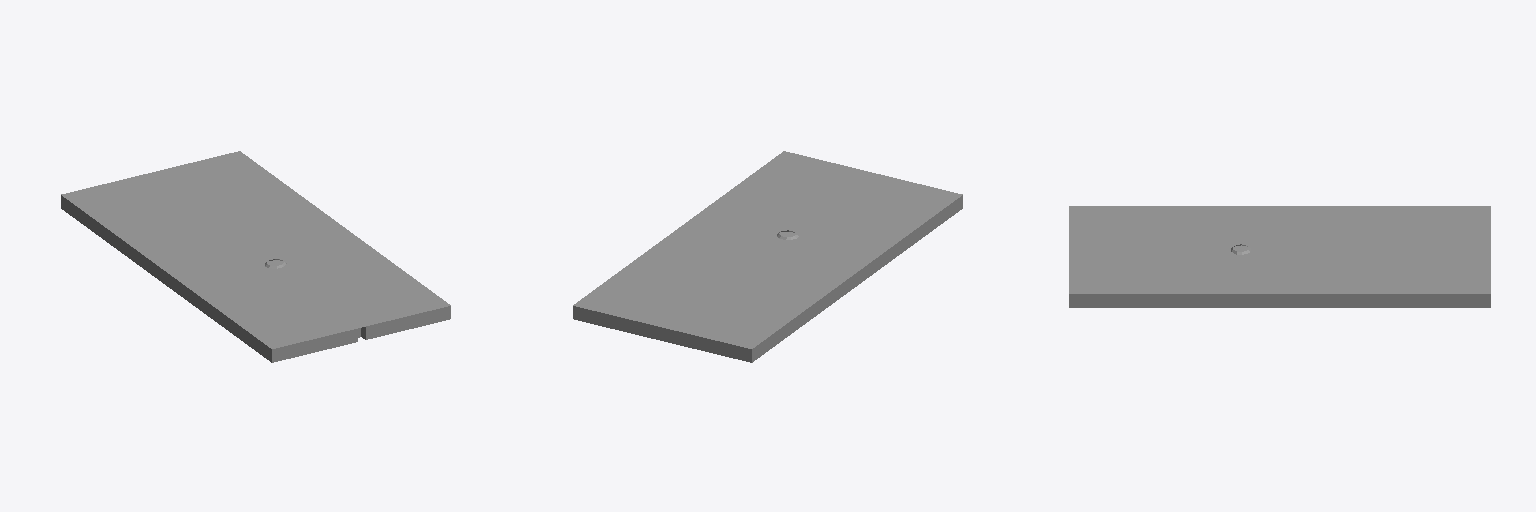
The model's file is Floor1.001.obj.
The picture shows the model from 3 angles: view 1: azimuth 30°, elevation 25°; view 2: azimuth 150°, elevation 25°; view 3: azimuth 270°, elevation 25°; orthographic projection.
Parts seen in each view (by area): view 1: Floor1.001_Cube.028; view 2: Floor1.001_Cube.028; view 3: Floor1.001_Cube.028.
Part boxes in pixels (x1,y1,x2,y2): Floor1.001_Cube.028: (61,151,450,362); Floor1.001_Cube.028: (573,151,962,362); Floor1.001_Cube.028: (1069,206,1490,307).
Size of the model in its own units: 16.96 by 1.41 by 34.63.